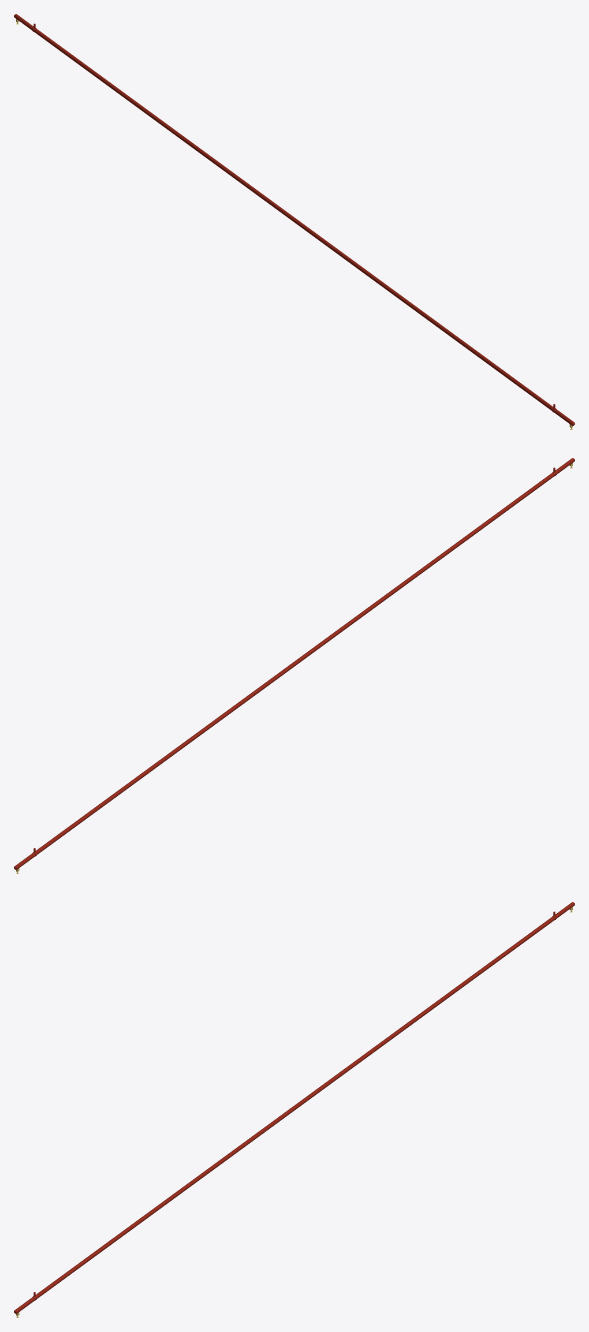
Rendered from SprinklerPipesFinal.fbx.
3 views of the same model, one above another, from view 1: azimuth 30°, elevation 25°; view 2: azimuth 150°, elevation 25°; view 3: azimuth 330°, elevation 25° (orthographic).
Visible parts, largest first — view 1: Cylinder.001, Cylinder; view 2: Cylinder, Cylinder.001; view 3: Cylinder.001, Cylinder.
Boxes of the visible parts, x1,y1,x2,y2 form: Cylinder.001: [292, 218, 574, 425]; Cylinder: [14, 14, 294, 220]; Cylinder: [14, 662, 296, 869]; Cylinder.001: [294, 458, 574, 664]; Cylinder.001: [14, 1106, 296, 1313]; Cylinder: [294, 902, 574, 1108].
Bounding box in the file's own units: 4.24 × 12.23 × 1008.
3 materials, 3 textured.
